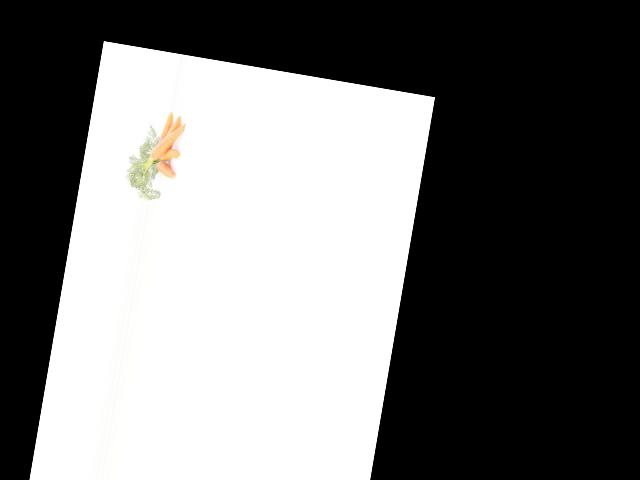carrot: (145, 119, 187, 169)
